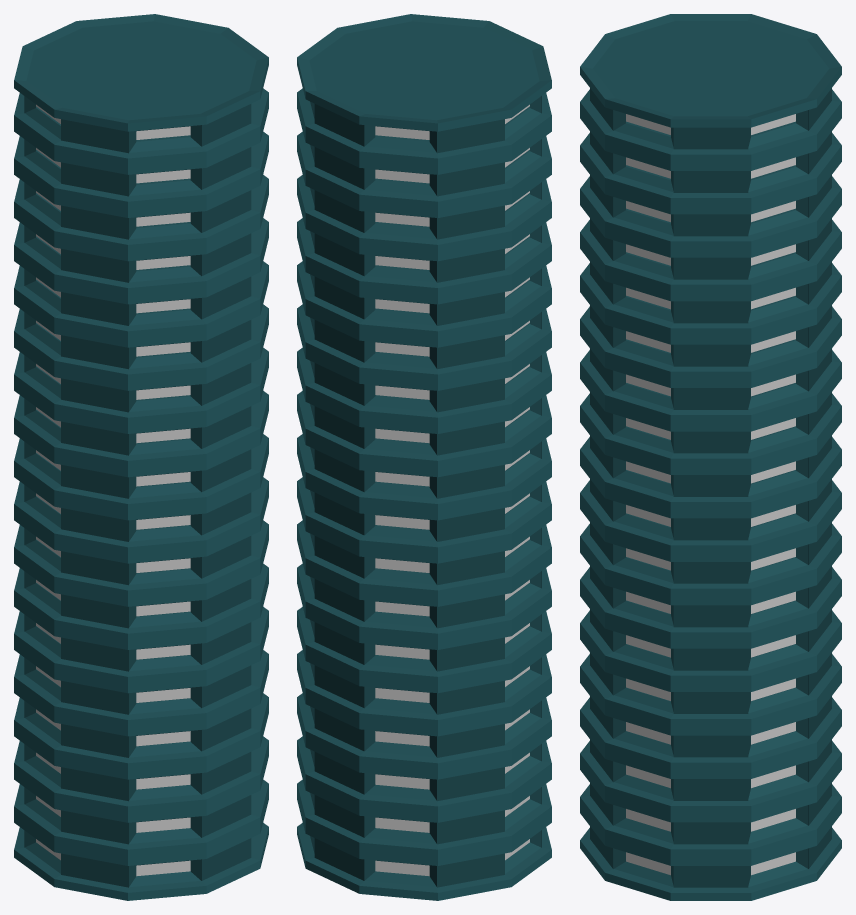
Rendered from green_building.fbx.
The picture shows the model from 3 angles, left to right: view 1: azimuth 30°, elevation 25°; view 2: azimuth 150°, elevation 25°; view 3: azimuth 270°, elevation 25°; orthographic projection.
Parts seen in each view (by area): view 1: Cylinder, Cylinder.001; view 2: Cylinder, Cylinder.001; view 3: Cylinder, Cylinder.001.
Part boxes in pixels (box(x1,y1,x2,y2)): Cylinder: box(14, 14, 268, 900); Cylinder.001: box(36, 104, 190, 876); Cylinder: box(297, 14, 551, 900); Cylinder.001: box(375, 104, 529, 876); Cylinder: box(580, 14, 841, 900); Cylinder.001: box(626, 114, 795, 875).
Size of the model in its own units: 563 by 1951 by 592.
